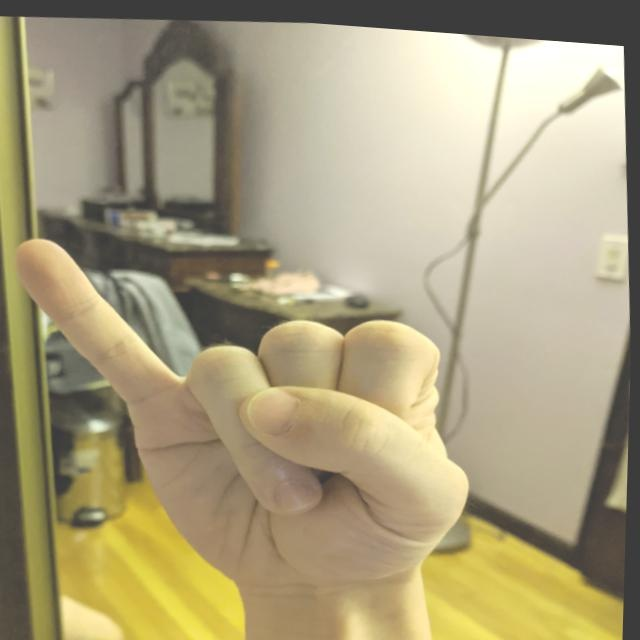I: (0, 204, 491, 620)
